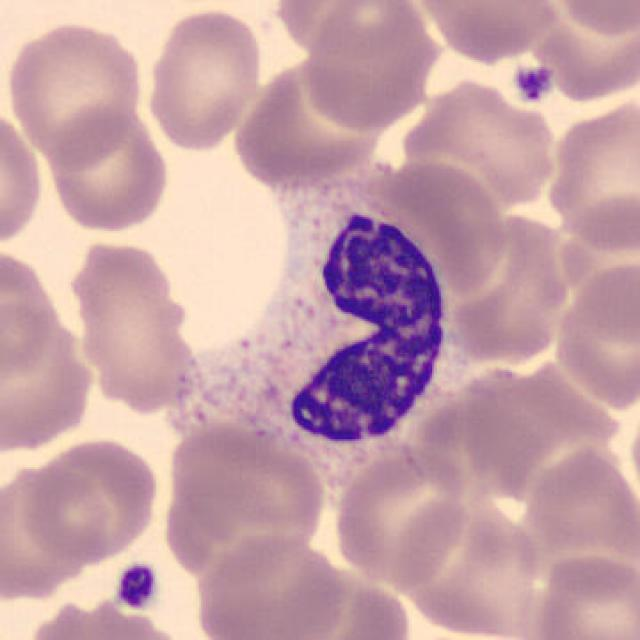Neutrophil: (175, 160, 473, 474)
Platelets: (112, 560, 162, 612), (511, 62, 556, 104)
RBC: (158, 416, 329, 582), (70, 239, 197, 416), (329, 440, 473, 590), (2, 16, 146, 162), (396, 490, 542, 634), (391, 71, 545, 201), (446, 207, 577, 358), (228, 62, 382, 190), (18, 435, 162, 566), (380, 155, 510, 298), (294, 0, 439, 127), (142, 5, 265, 154), (44, 104, 172, 236), (192, 532, 348, 640), (0, 458, 101, 604), (518, 440, 638, 560), (551, 255, 640, 412), (0, 303, 94, 444), (556, 264, 640, 418), (552, 109, 640, 247), (524, 550, 640, 640), (532, 0, 638, 97), (0, 244, 71, 386), (409, 0, 562, 63), (270, 0, 422, 60), (20, 594, 183, 640), (0, 106, 46, 254), (548, 0, 636, 41), (627, 396, 640, 511)
